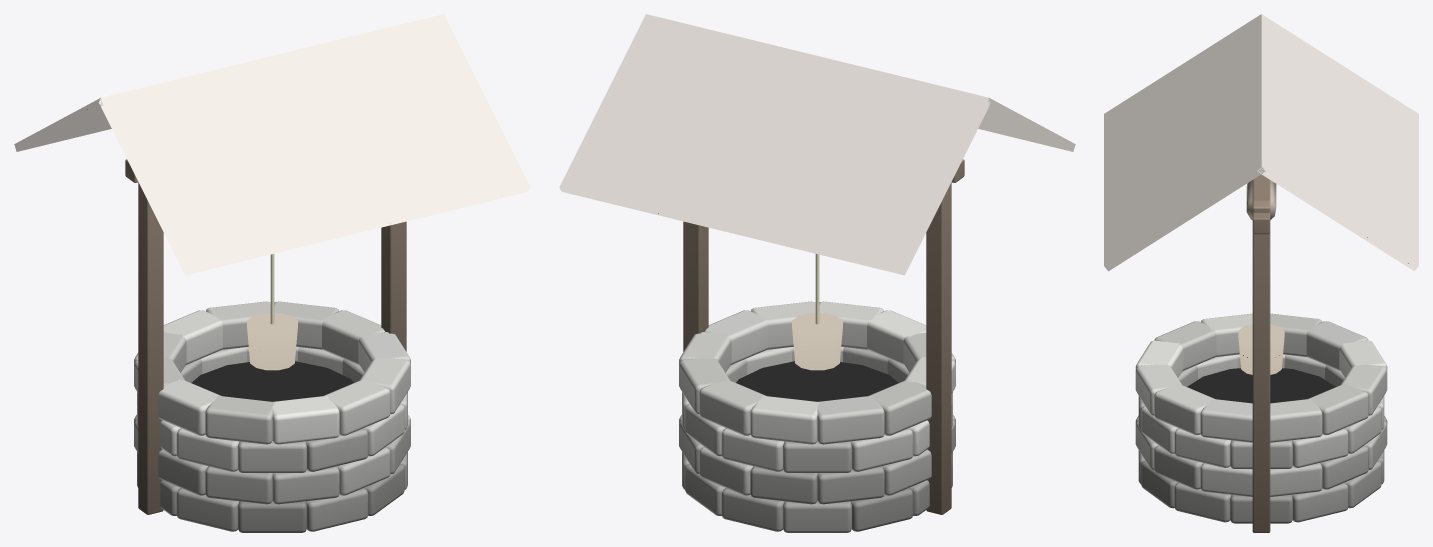
Rendered from well.glb.
3 views of the same model, side by side, from view 1: azimuth 30°, elevation 25°; view 2: azimuth 150°, elevation 25°; view 3: azimuth 270°, elevation 25° (orthographic). The views are drawn at different scales.
Parts seen in each view (by area): view 1: well; view 2: well; view 3: well.
Part boxes in pixels (x1=…): well: x1=14, y1=14, x2=530, y2=532; well: x1=559, y1=14, x2=1075, y2=532; well: x1=1104, y1=14, x2=1418, y2=532.
Size of the model in its own units: 2.4 by 2.84 by 2.1.
